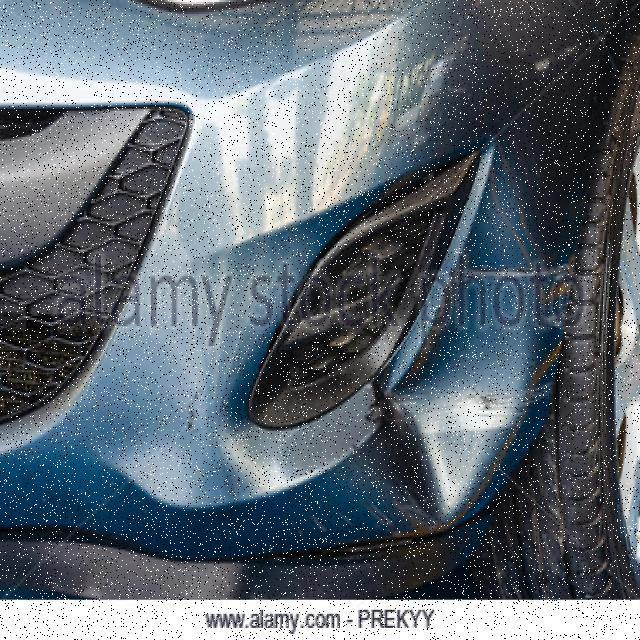front-bumper-dent: (0, 247, 568, 538)
